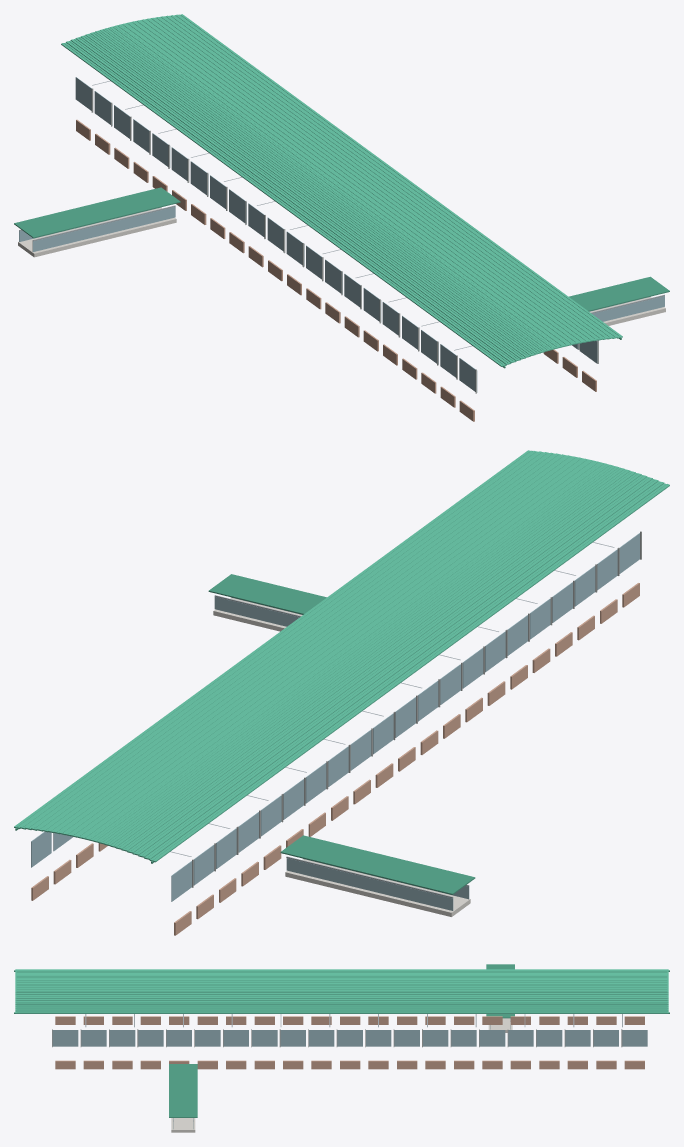
Rendered from station-4-photo-reference.glb.
3 views of the same model, one above another, from view 1: azimuth 30°, elevation 25°; view 2: azimuth 150°, elevation 25°; view 3: azimuth 270°, elevation 25° (orthographic). The views are drawn at different scales.
Visible parts, largest first — view 1: Station 4 photo-informed architecture and surroundings; view 2: Station 4 photo-informed architecture and surroundings; view 3: Station 4 photo-informed architecture and surroundings.
Boxes of the visible parts, <box> form: Station 4 photo-informed architecture and surroundings: <box>14,14,669,421</box>; Station 4 photo-informed architecture and surroundings: <box>14,450,669,935</box>; Station 4 photo-informed architecture and surroundings: <box>14,964,669,1132</box>.
Bounding box in the file's own units: 89 × 18.91 × 161.
